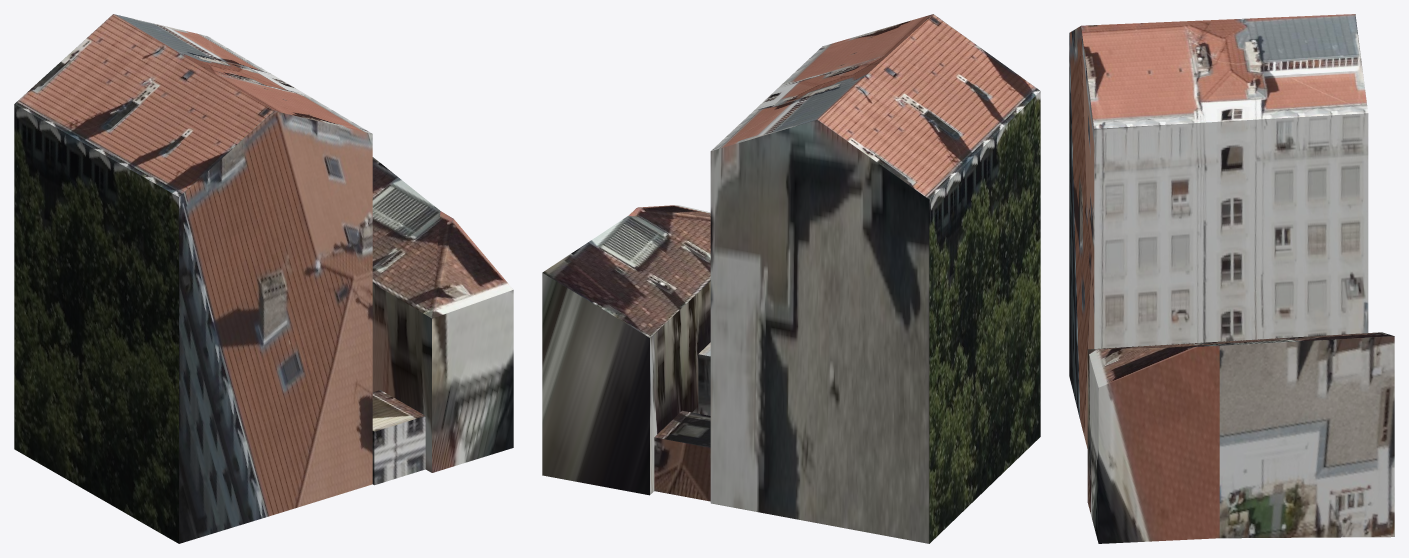
The picture shows the model from 3 angles, left to right: view 1: azimuth 30°, elevation 25°; view 2: azimuth 150°, elevation 25°; view 3: azimuth 270°, elevation 25°; orthographic projection.
Parts seen in each view (by area): view 1: Z_UP; view 2: Z_UP; view 3: Z_UP.
Part boxes in pixels (x1,y1,x2,y2): Z_UP: (14,14,513,543); Z_UP: (542,14,1040,543); Z_UP: (1069,14,1394,543).
Bounding box in the file's own units: 26.5 × 27.26 × 20.13.
2 materials, 1 textured.
